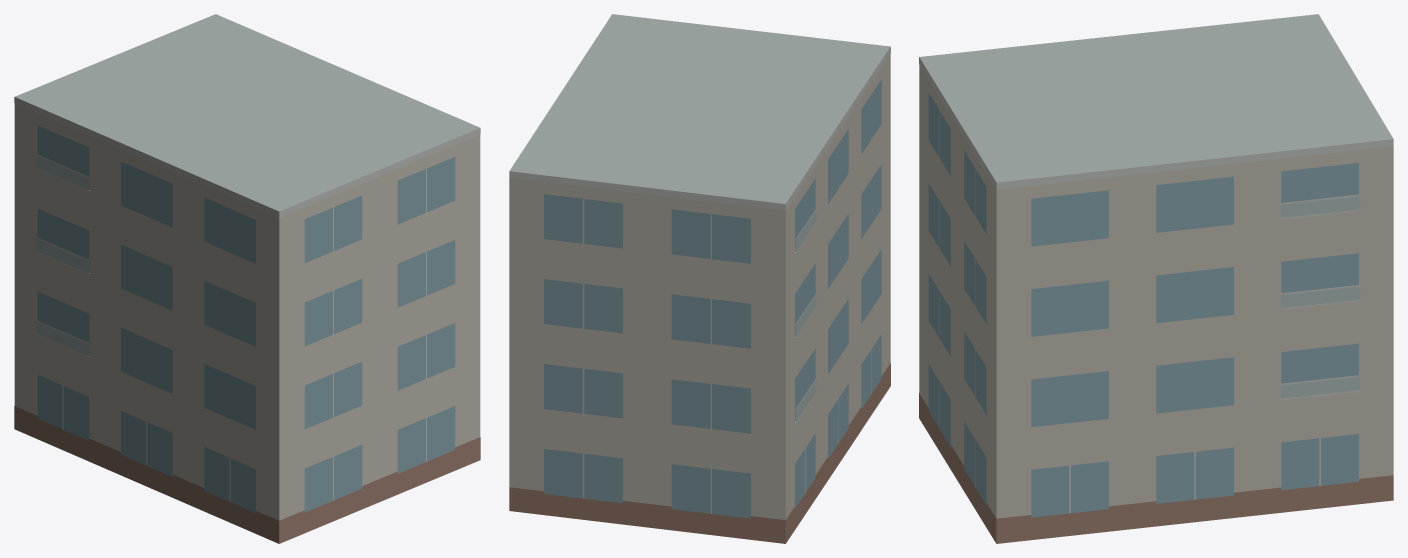
Rendered from survey-upis-32721305.glb.
The picture shows the model from 3 angles, left to right: view 1: azimuth 30°, elevation 25°; view 2: azimuth 150°, elevation 25°; view 3: azimuth 270°, elevation 25°; orthographic projection. The views are drawn at different scales.
Parts seen in each view (by area): view 1: survey-upis-32721305.tmp; view 2: survey-upis-32721305.tmp; view 3: survey-upis-32721305.tmp.
Boxes of the visible parts, x1,y1,x2,y2 form: survey-upis-32721305.tmp: [14, 14, 480, 543]; survey-upis-32721305.tmp: [509, 14, 890, 543]; survey-upis-32721305.tmp: [919, 14, 1393, 543].
Bounding box in the file's own units: 12.22 × 12.2 × 14.53.
